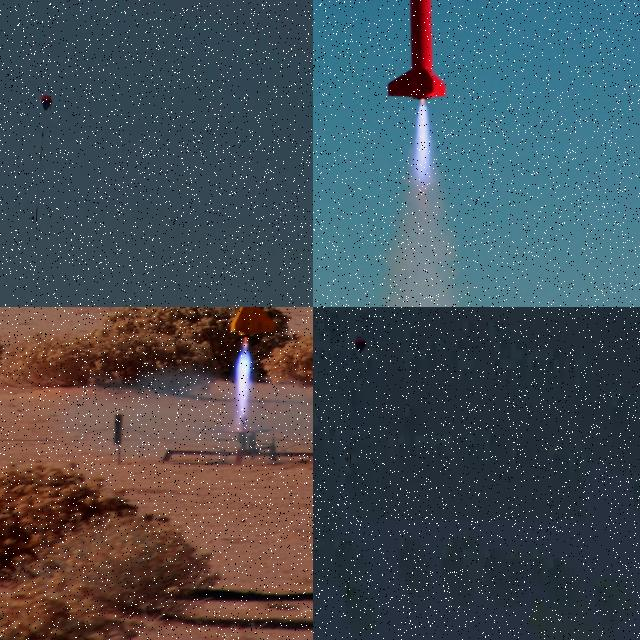Rocket: (387, 0, 449, 102), (225, 307, 277, 339), (346, 578, 351, 596)
